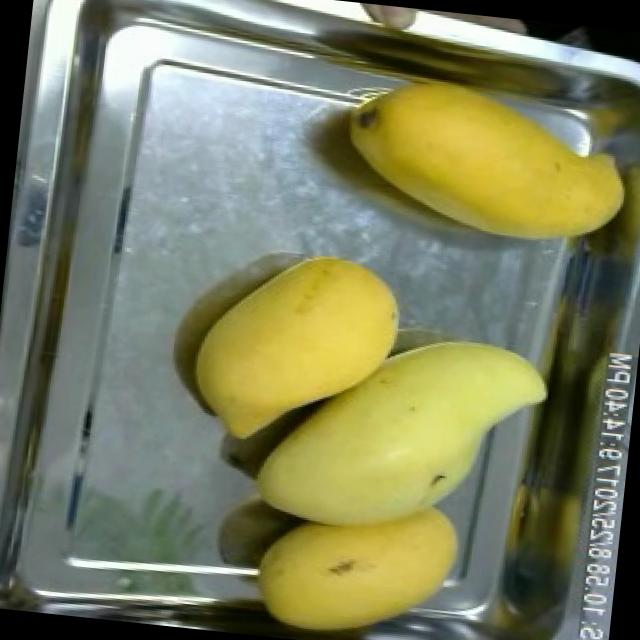fruit: (223, 297, 497, 640), (316, 56, 640, 273), (168, 222, 420, 469)
